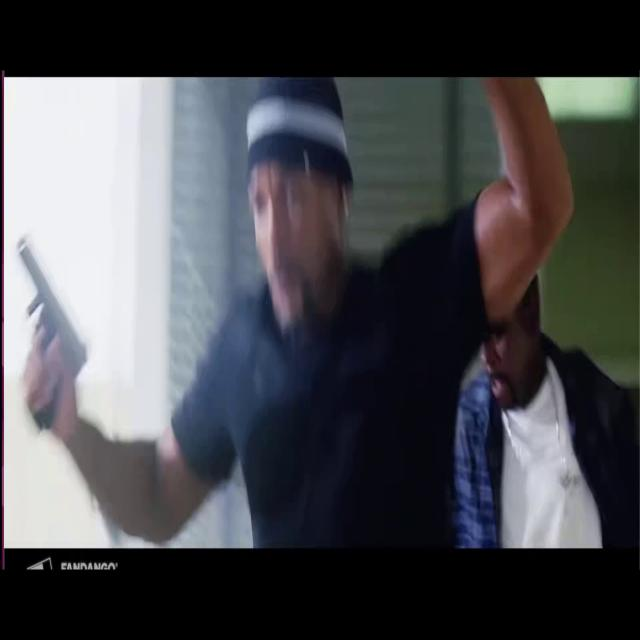weapons: (10, 220, 98, 450)
